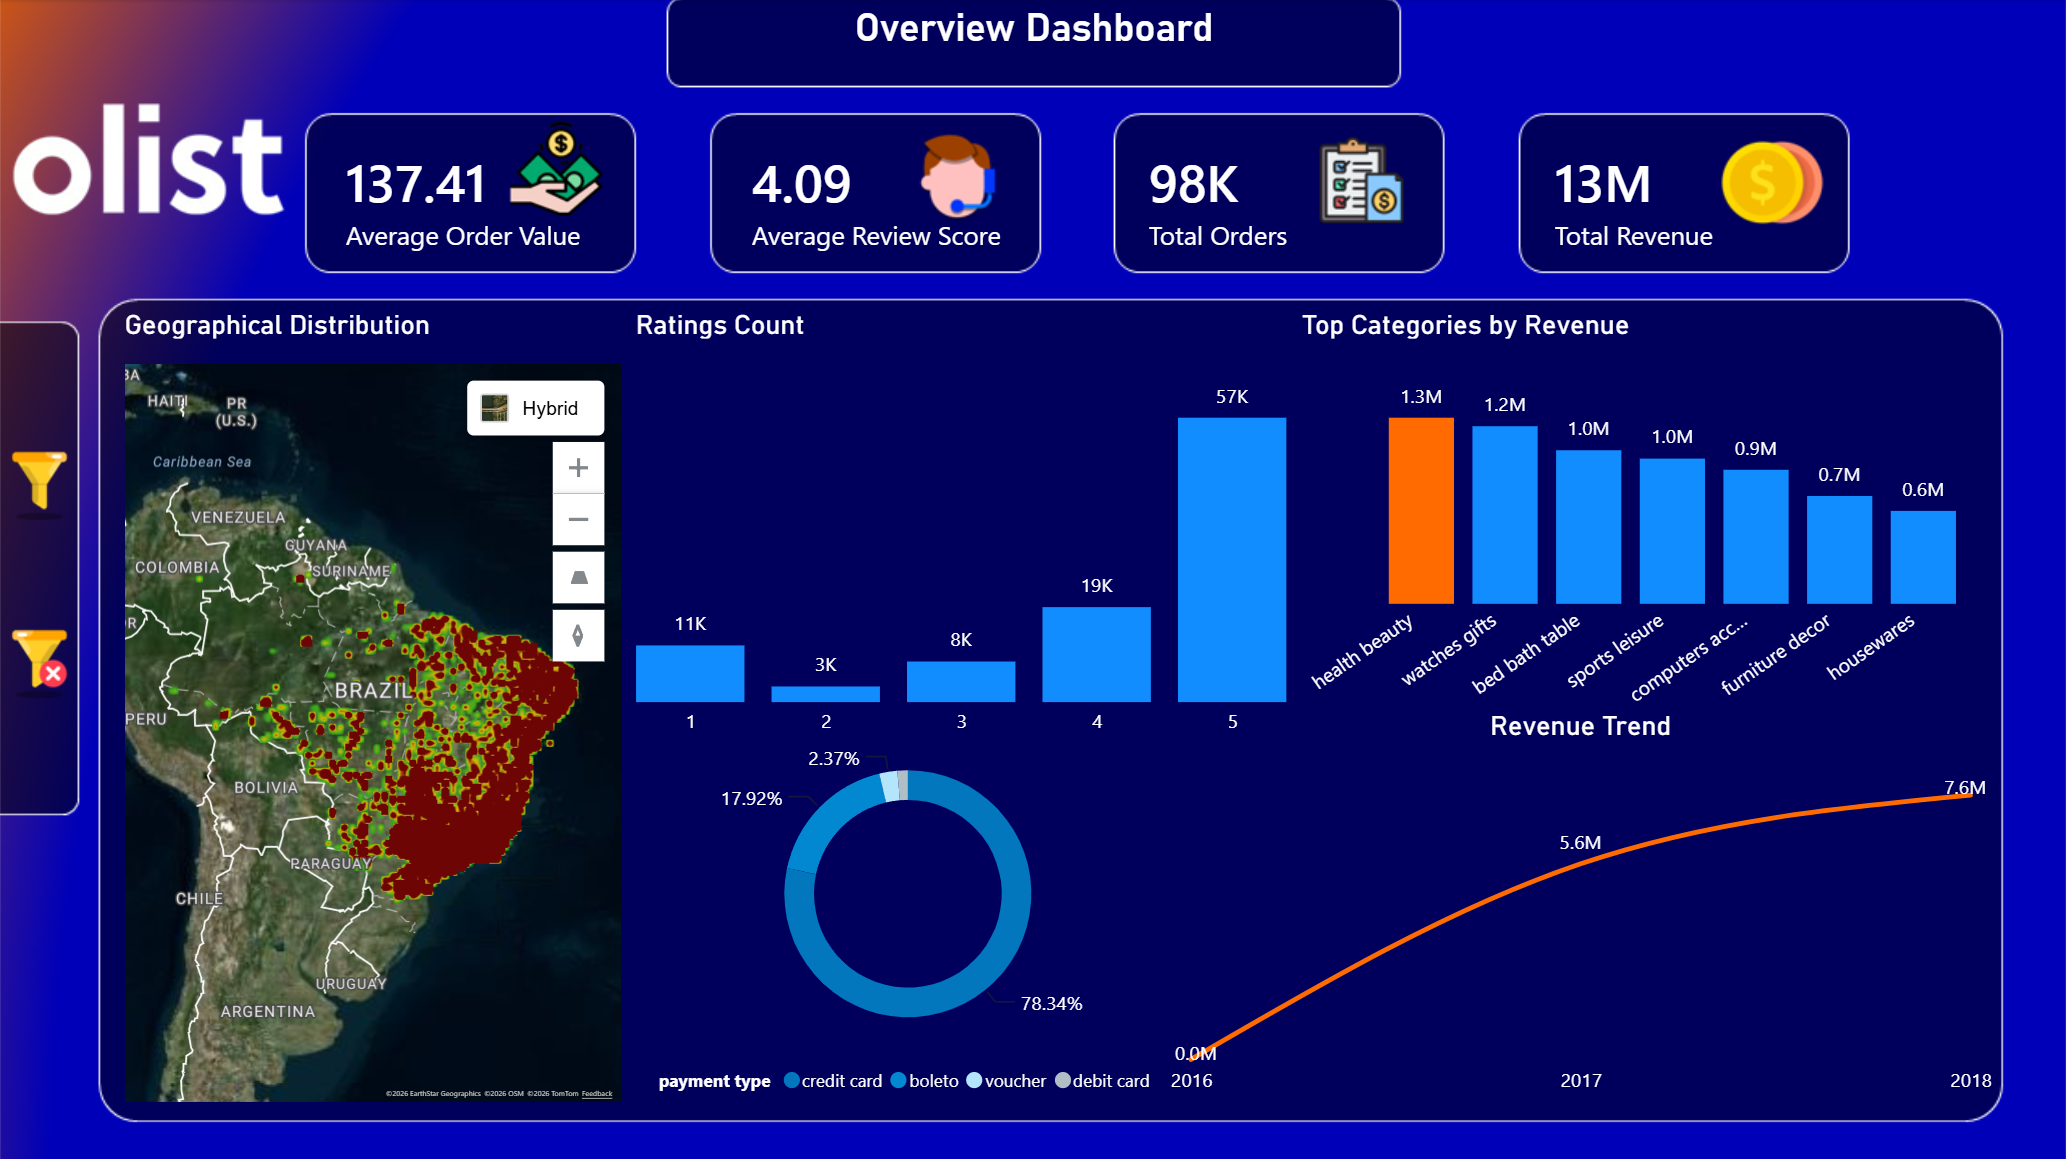

The dashboard page shown, as its layout file describes it:
{"tool":"powerbi","page":{"name":"DashBoard","canvas":[1280,720],"ordinal":1},"visuals":[{"type":"cardVisual","fields":{"Data":["Over_View_Measures.Average Order Value"]},"box":[185.4,65.4,215.1,116.4],"z":0},{"type":"cardVisual","fields":{"Data":["Over_View_Measures.Average Review Score"]},"box":[437,65.4,215.1,116.4],"z":1000},{"type":"cardVisual","fields":{"Data":["Over_View_Measures.Total Orders"]},"box":[682.8,62.5,228.5,122.2],"z":2000},{"type":"cardVisual","fields":{"Data":["Over_View_Measures.Total Revenue"]},"box":[934.3,65.4,238.3,116.4],"z":3000},{"type":"lineChart","title":"Revenue Trend","fields":{"Category":["Gold Dim_Date.Calendar Hierarchy.Year_Number","Gold Dim_Date.Calendar Hierarchy.Quarter_Number","Gold Dim_Date.Calendar Hierarchy.Month_Name"],"Y":["Over_View_Measures.Total Revenue"]},"box":[719.8,439.8,518.9,248],"z":4000},{"type":"clusteredColumnChart","title":"Top Categories by Revenue","fields":{"Category":["Gold Dim_Product.Category_Name_En"],"Y":["Over_View_Measures.Total Revenue"]},"box":[802.1,191.2,437,257.3],"z":5000},{"type":"azureMap","title":"Geographical Distribution","fields":{"Size":["Over_View_Measures.Total Orders"],"X":["Gold Dim_Customer.geolocation_lng"],"Y":["Gold Dim_Customer.geolocation_lat"]},"box":[72.6,191.7,316.9,496.6],"z":6000},{"type":"donutChart","fields":{"Category":["Gold Fact_Payments.payment_type"],"Y":["Sum(Gold Fact_Payments.payment_value)"]},"box":[389.4,448.3,346.8,239.5],"z":7000},{"type":"clusteredColumnChart","title":"Ratings Count","fields":{"Category":["Gold Fact_Reviews.review_score"],"Y":["CountNonNull(Gold Fact_Reviews.review_id)"]},"box":[389.4,191.7,412.9,274.2],"z":8000},{"type":"image","box":[562.8,75.9,60.9,70],"z":9000},{"type":"image","box":[0,268.9,49.1,59.6],"z":10000},{"type":"image","box":[816.7,65.4,54.3,92.9],"z":11000},{"type":"image","box":[304.9,75.9,79.8,58.2],"z":12000},{"type":"image","box":[1062.7,75.9,71.3,74.6],"z":13000},{"type":"image","box":[0,369.1,49.1,79.2],"z":14000},{"type":"textbox","box":[414.2,0,452.2,55.6],"z":15000},{"type":"actionButton","title":"Slicer Pane Button","box":[0,272.6,48.8,50.6],"z":16000},{"type":"actionButton","title":"Filter OF","box":[0,377.6,48.8,62.6],"z":18000}]}

Visuals, with their boxes in screenshot pixels (x1, y1, x2, y2), scaled from the page's 1280x720 canvas onto the 2066x1159 screenshot:
cardVisual - Over_View_Measures.Average Order Value: crop(299, 105, 646, 293)
cardVisual - Over_View_Measures.Average Review Score: crop(705, 105, 1053, 293)
cardVisual - Over_View_Measures.Total Orders: crop(1102, 101, 1471, 297)
cardVisual - Over_View_Measures.Total Revenue: crop(1508, 105, 1893, 293)
"Revenue Trend" lineChart: crop(1162, 708, 1999, 1107)
"Top Categories by Revenue" clusteredColumnChart: crop(1295, 308, 2000, 722)
"Geographical Distribution" azureMap: crop(117, 309, 629, 1108)
donutChart - Gold Fact_Payments.payment_type x Sum(Gold Fact_Payments.payment_value): crop(629, 722, 1188, 1107)
"Ratings Count" clusteredColumnChart: crop(629, 309, 1295, 750)
image: crop(908, 122, 1007, 235)
image: crop(0, 433, 79, 529)
image: crop(1318, 105, 1406, 255)
image: crop(492, 122, 621, 216)
image: crop(1715, 122, 1830, 242)
image: crop(0, 594, 79, 722)
textbox: crop(669, 0, 1398, 90)
"Slicer Pane Button" actionButton: crop(0, 439, 79, 520)
"Filter OF" actionButton: crop(0, 608, 79, 709)
